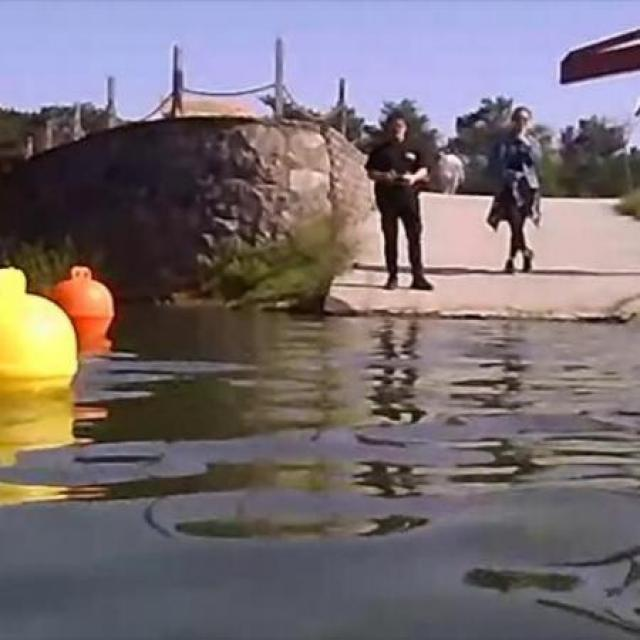buoy: (0, 266, 78, 391), (50, 265, 114, 339)
